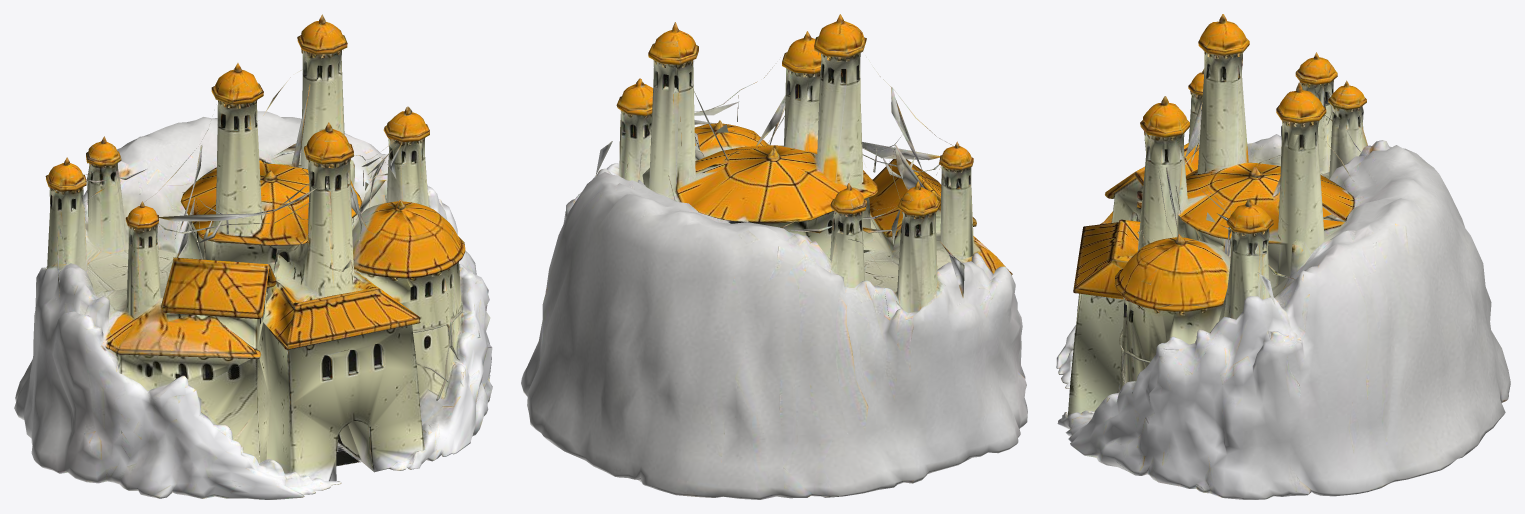
Rendered from citta.glb.
The picture shows the model from 3 angles, left to right: view 1: azimuth 30°, elevation 25°; view 2: azimuth 150°, elevation 25°; view 3: azimuth 270°, elevation 25°; orthographic projection. The views are drawn at different scales.
Size of the model in its own units: 0.9575 by 0.7627 by 0.8633.
1 material, 1 textured.
